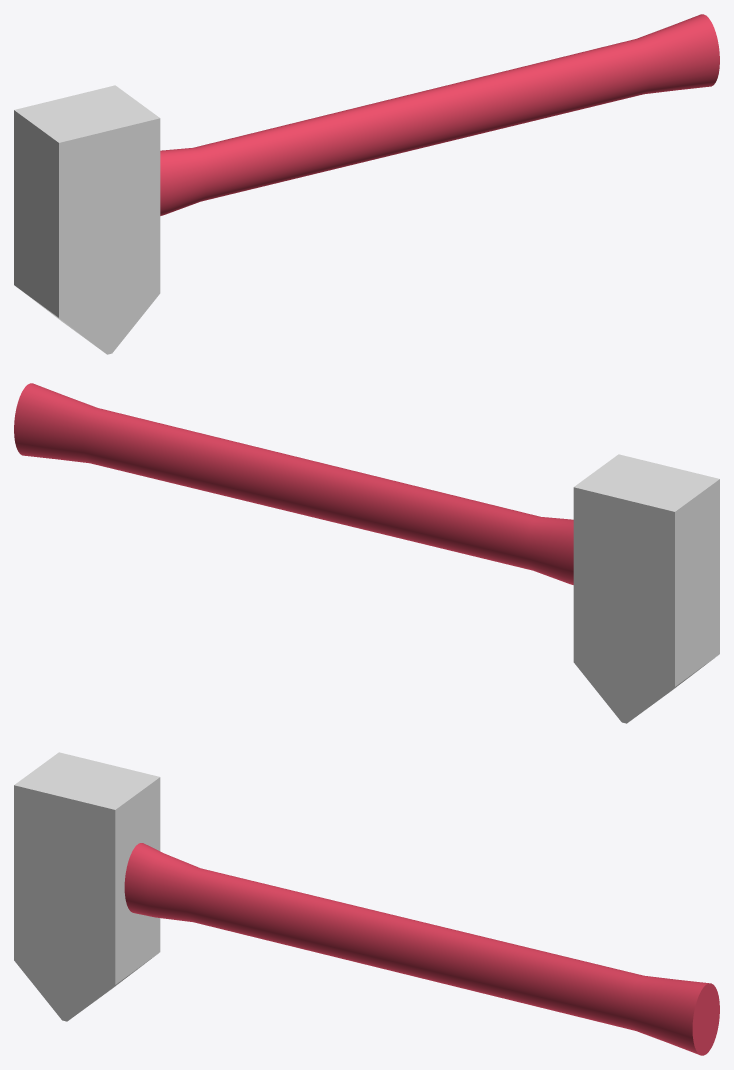
File: F_Młotek 2.fbx
3 views of the same model, one above another, from view 1: azimuth 30°, elevation 25°; view 2: azimuth 150°, elevation 25°; view 3: azimuth 330°, elevation 25° (orthographic).
Parts seen in each view (by area): view 1: F_Końcuwka młotka, F_siekiera.001; view 2: F_Końcuwka młotka, F_siekiera.001; view 3: F_siekiera.001, F_Końcuwka młotka.
Part boxes in pixels (x1,y1,x2,y2): F_Końcuwka młotka: [14, 85, 160, 354]; F_siekiera.001: [160, 14, 719, 215]; F_Końcuwka młotka: [573, 454, 719, 723]; F_siekiera.001: [14, 383, 573, 584]; F_siekiera.001: [124, 843, 719, 1055]; F_Końcuwka młotka: [14, 752, 160, 1021].
Bounding box in the file's own units: 61.22 × 19.52 × 7.13.
